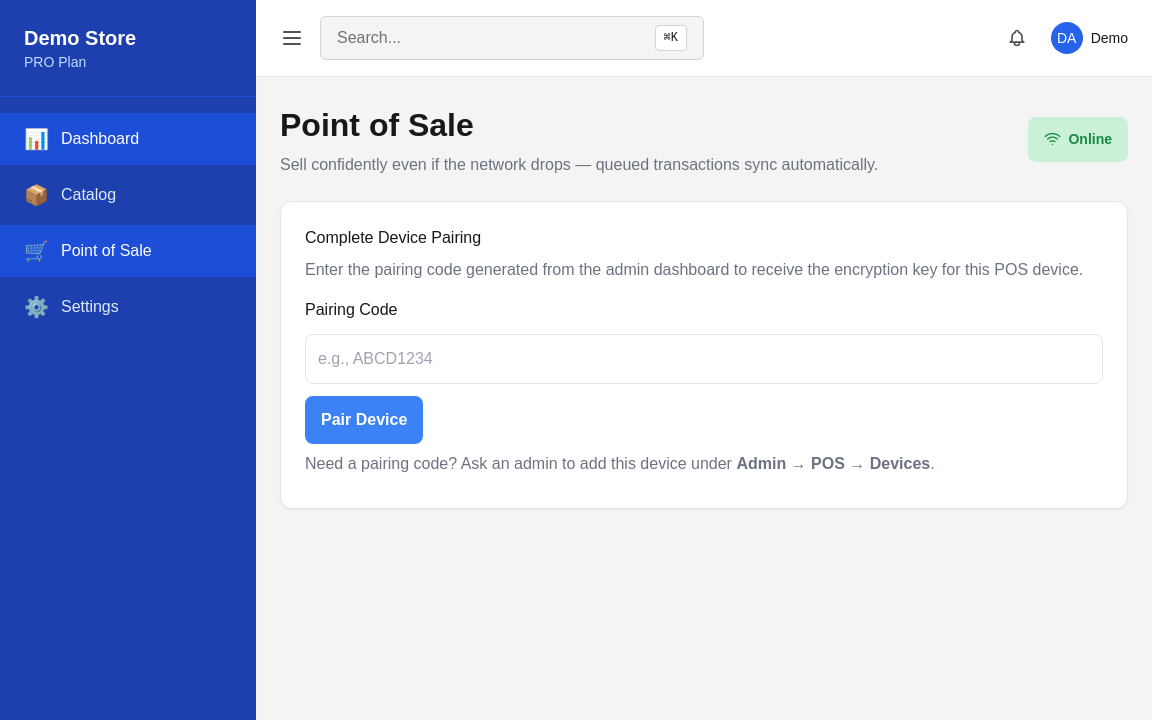
it: POS Offline Mode › Device Pairing › shows error for invalid pairing code
In the field labelled "Pairing Code": (704, 359) x1=305 y1=334 x2=1103 y2=384, type "INVALID1"
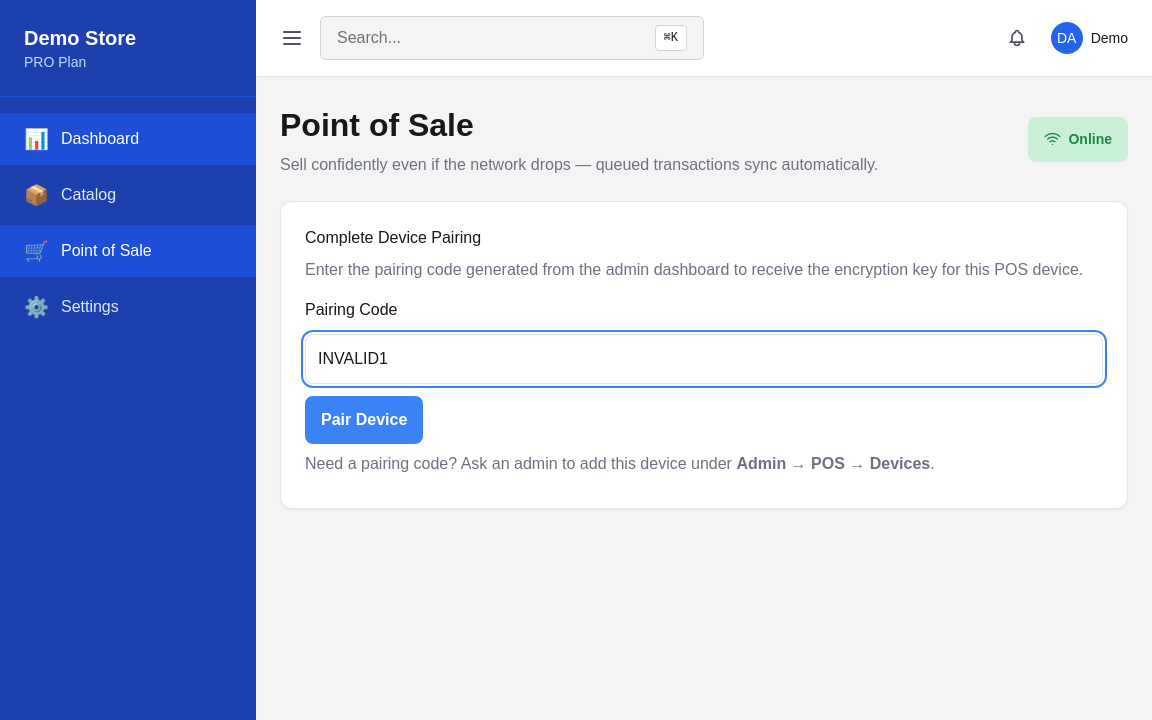
Click the button "Pair Device": (364, 420) x1=305 y1=396 x2=423 y2=444
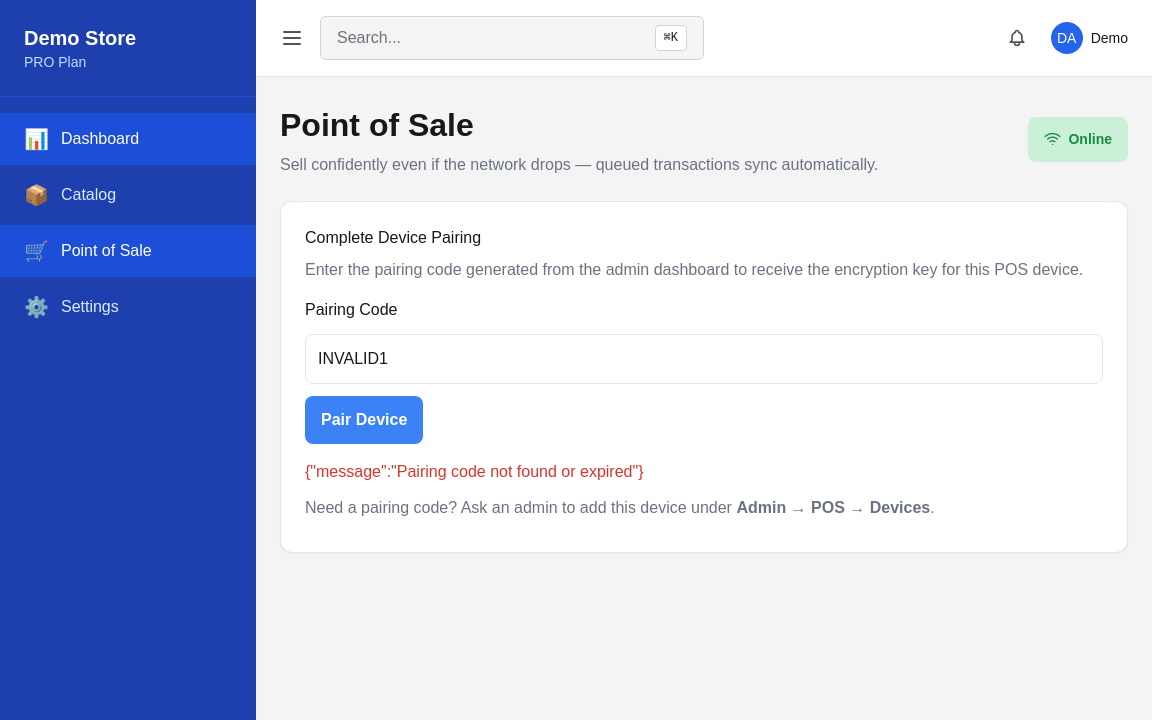
Check: the text "Pairing code not found or expired" is shown, box x1=305 y1=463 x2=643 y2=480
